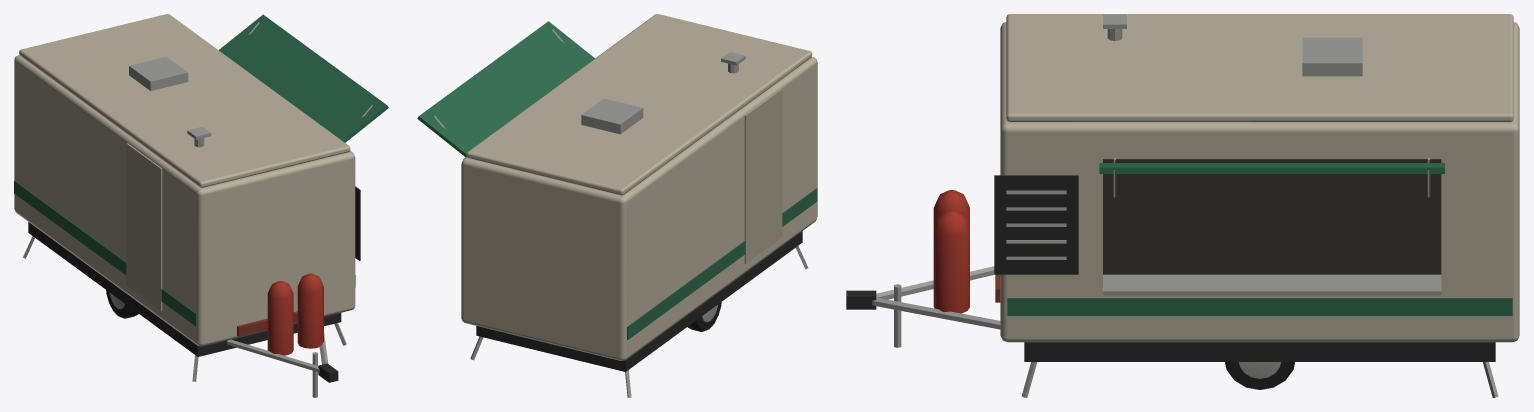
Rendered from SM_Prop_road_burgervan_1.glb.
3 renders of one model, left to right at view 1: azimuth 30°, elevation 25°; view 2: azimuth 150°, elevation 25°; view 3: azimuth 270°, elevation 25°, orthographic. The views are drawn at different scales.
Parts seen in each view (by area): view 1: SM_Prop_road_burgervan_1; view 2: SM_Prop_road_burgervan_1; view 3: SM_Prop_road_burgervan_1.
Boxes of the visible parts, bbox=[...] form: SM_Prop_road_burgervan_1: bbox=[14, 14, 388, 397]; SM_Prop_road_burgervan_1: bbox=[417, 14, 817, 397]; SM_Prop_road_burgervan_1: bbox=[846, 14, 1519, 397].
Bounding box in the file's own units: 3.01 × 2.76 × 5.58.
